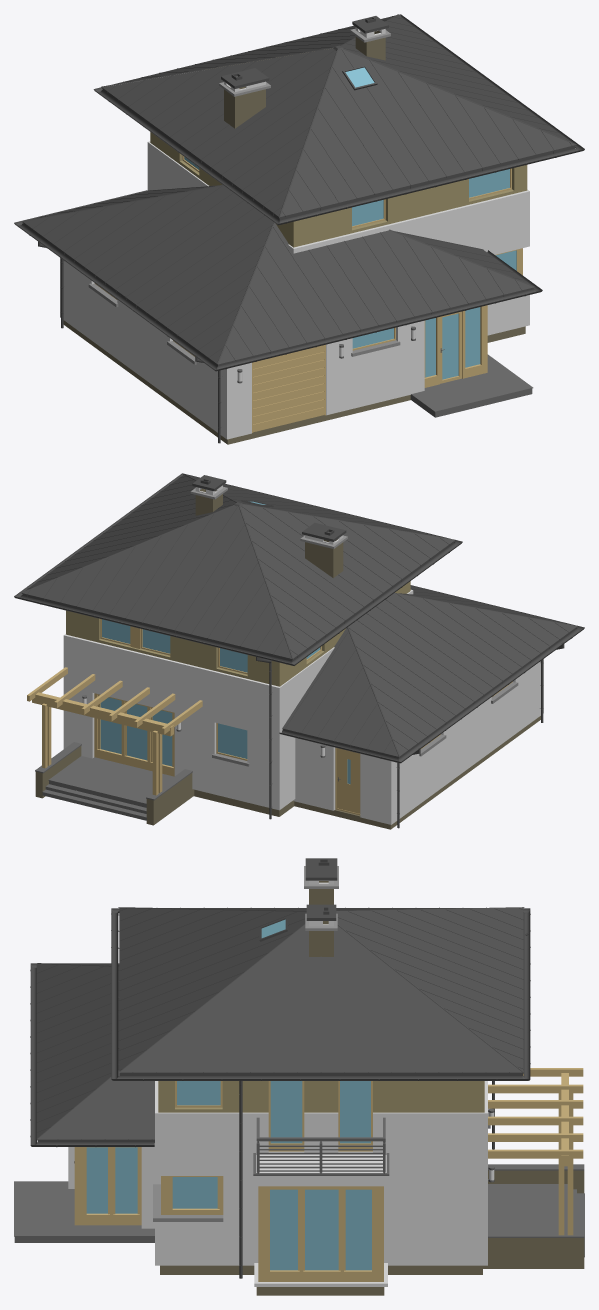
File: Housee.fbx
3 renders of one model, top to bottom at view 1: azimuth 30°, elevation 25°; view 2: azimuth 150°, elevation 25°; view 3: azimuth 270°, elevation 25°, orthographic. The views are drawn at different scales.
Visible parts, largest first — view 1: roof, body_house, gutters, windows, garage, chimneys, fundametnts, stairs, ridge, door, parapet, window_roof; view 2: roof, body_house, gutters, windows, stairs, boards, door, chimneys, wall_barrels, fundametnts, ridge, parapet; view 3: roof, body_house, windows, stairs, gutters, boards, wall_barrels, fundametnts, barrels, chimneys, ridge, parapet.
Boxes of the visible parts, x1,y1,x2,y2 form: roof: [22, 15, 576, 366]; body_house: [60, 73, 529, 439]; gutters: [14, 14, 584, 443]; windows: [94, 156, 522, 387]; garage: [252, 344, 325, 432]; chimneys: [219, 16, 390, 128]; fundametnts: [63, 320, 532, 444]; stairs: [411, 354, 533, 411]; ridge: [22, 14, 576, 364]; door: [440, 311, 461, 383]; parapet: [88, 283, 400, 364]; window_roof: [342, 65, 377, 90]; roof: [21, 474, 577, 758]; body_house: [63, 581, 543, 824]; gutters: [14, 473, 584, 828]; windows: [100, 619, 512, 815]; stairs: [42, 756, 173, 820]; boards: [27, 667, 202, 795]; door: [94, 693, 174, 776]; chimneys: [190, 475, 347, 577]; wall_barrels: [35, 742, 194, 825]; fundametnts: [194, 716, 540, 829]; ridge: [21, 473, 577, 756]; parapet: [212, 682, 518, 766]; roof: [36, 907, 523, 1144]; body_house: [68, 1081, 487, 1286]; windows: [74, 1081, 383, 1281]; stairs: [14, 1181, 584, 1257]; gutters: [30, 908, 530, 1278]; boards: [488, 1068, 583, 1235]; wall_barrels: [483, 1164, 584, 1268]; fundametnts: [14, 1236, 482, 1295]; barrels: [253, 1117, 389, 1175]; chimneys: [304, 858, 338, 956]; ridge: [36, 907, 524, 1139]; parapet: [153, 1108, 490, 1221].
Bounding box in the file's own units: 479 × 316 × 510.
